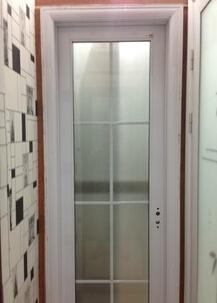door: (52, 24, 171, 303)
